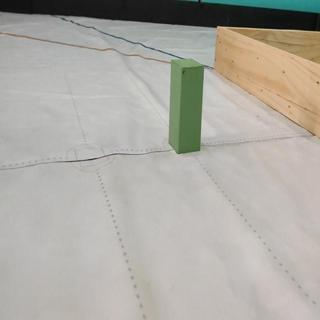greenbox: (167, 57, 206, 156)
